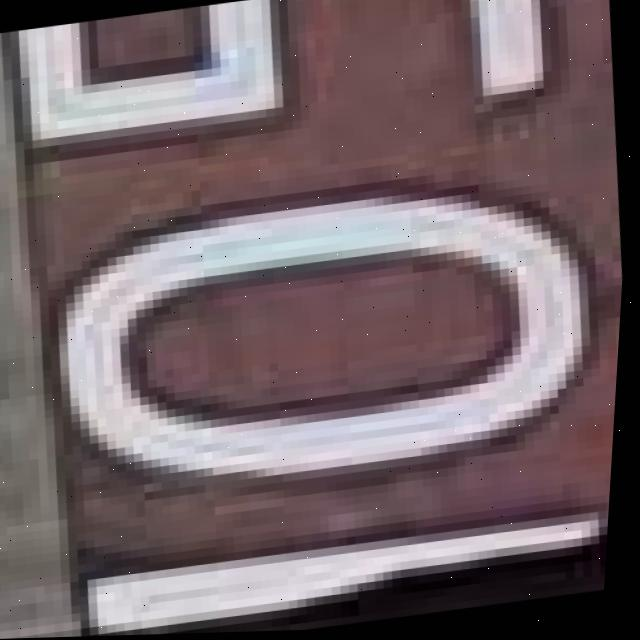character: (23, 141, 627, 532), (0, 0, 568, 174), (63, 486, 607, 637)
